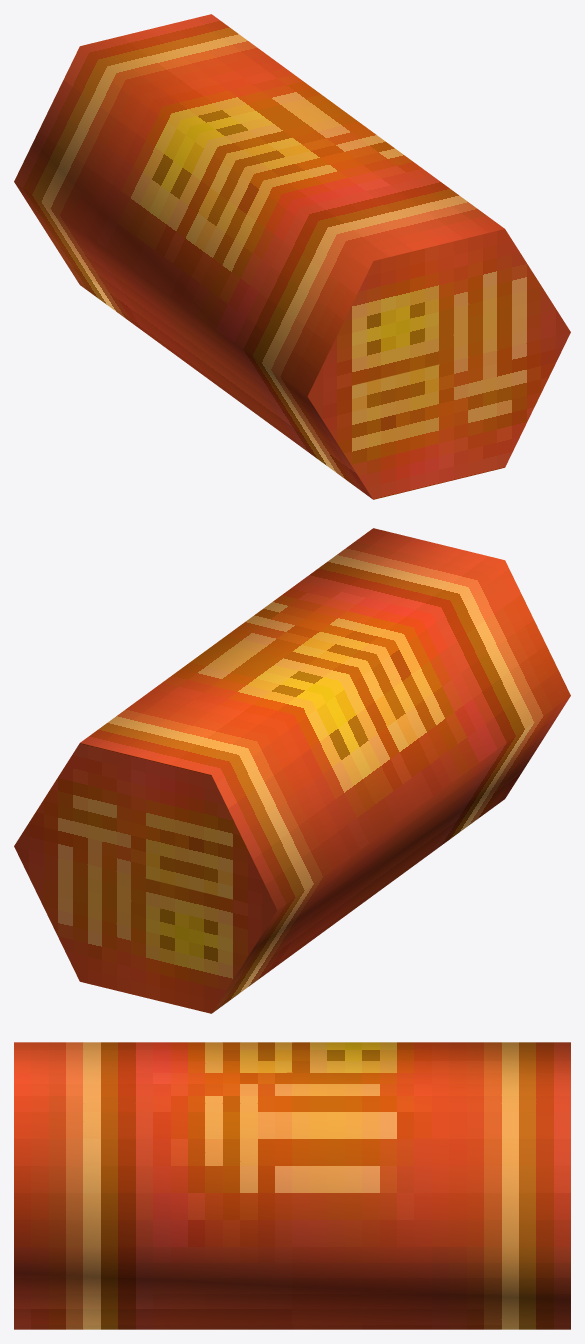
File: MagicBox03.glb
3 views of the same model, one above another, from view 1: azimuth 30°, elevation 25°; view 2: azimuth 150°, elevation 25°; view 3: azimuth 270°, elevation 25° (orthographic). The views are drawn at different scales.
Parts seen in each view (by area): view 1: model_MagicBox03; view 2: model_MagicBox03; view 3: model_MagicBox03.
Part boxes in pixels (box(x1,y1,x2,y2)): model_MagicBox03: box(14, 14, 570, 499); model_MagicBox03: box(14, 528, 570, 1013); model_MagicBox03: box(14, 1042, 570, 1329).
Size of the model in its own units: 0.2968 by 0.257 by 0.5726.
1 material, 1 textured.
